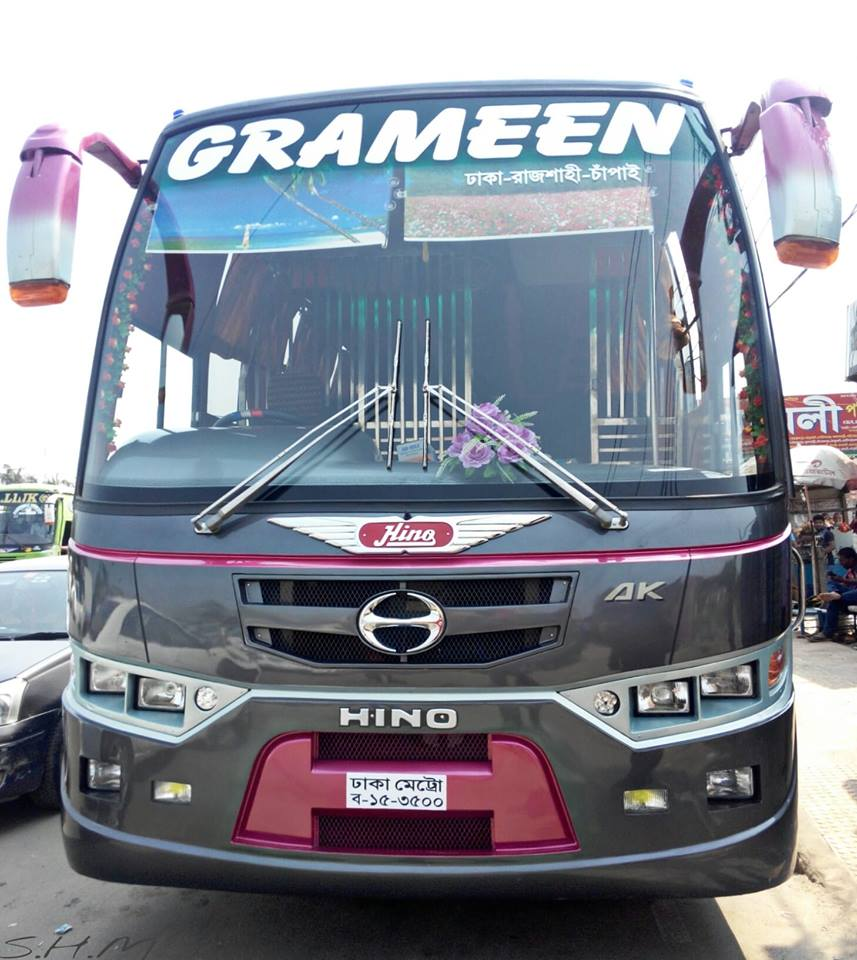bus: (59, 81, 792, 909), (4, 481, 75, 555)
car: (4, 561, 69, 809)
